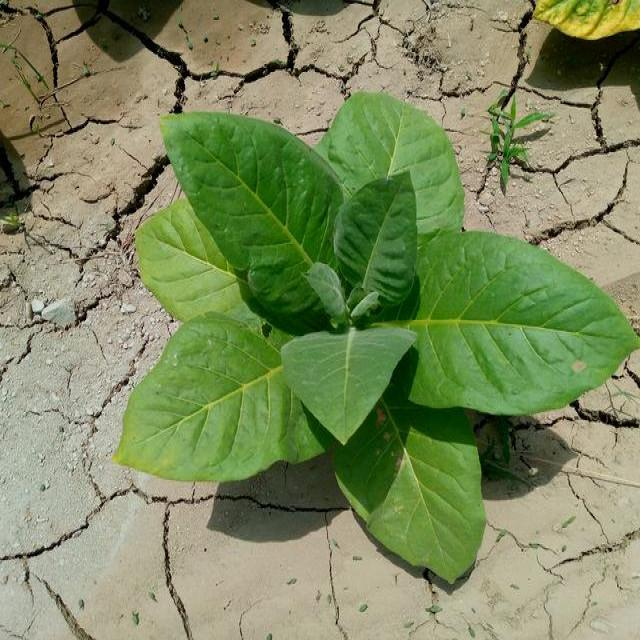crop: (121, 86, 639, 572)
